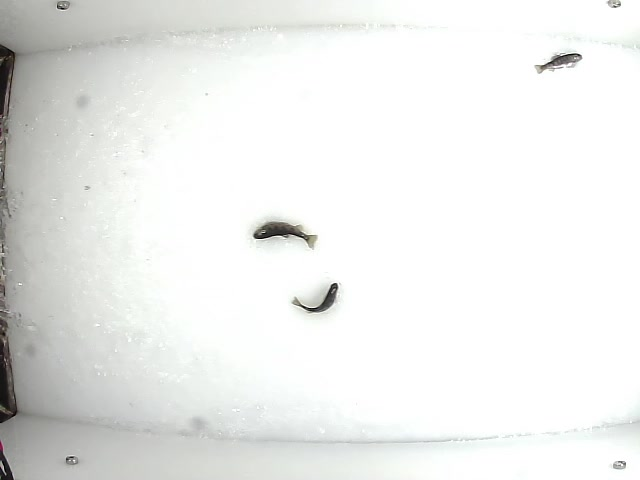fish: (250, 209, 319, 250), (291, 282, 338, 313), (533, 50, 584, 75)
